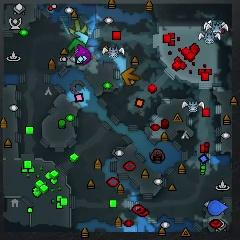p1: (208, 199, 229, 216)
p3: (73, 44, 92, 65)
x2: (69, 18, 87, 36)
x3: (76, 31, 89, 44)
x4: (66, 38, 87, 52)
x5: (121, 67, 140, 85)
